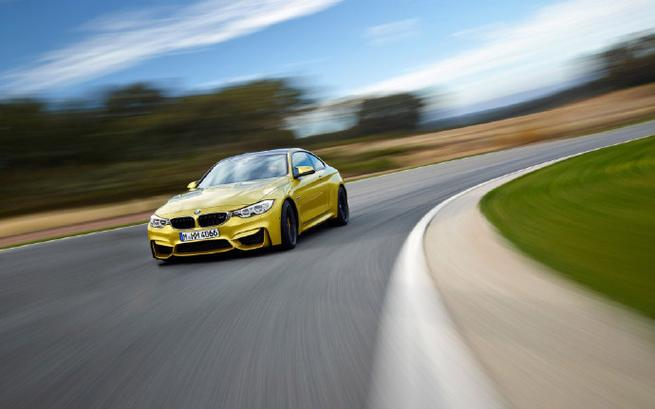汽车: (140, 145, 362, 267)
